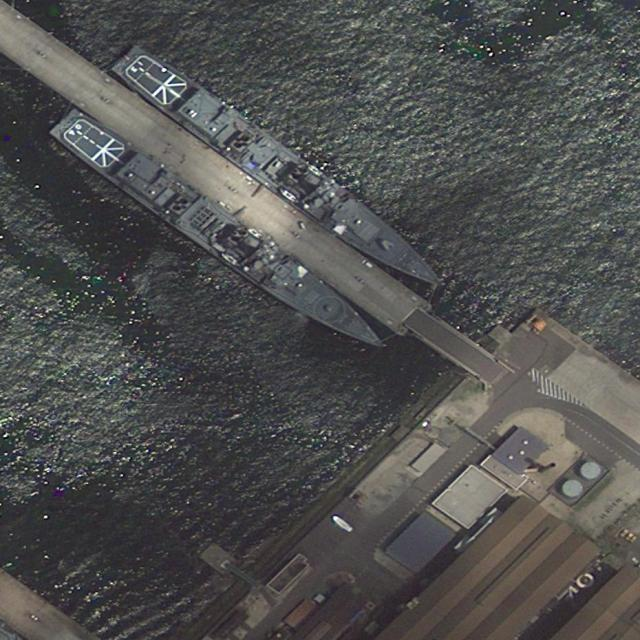Destroyer: (44, 95, 398, 369), (102, 36, 460, 303)
